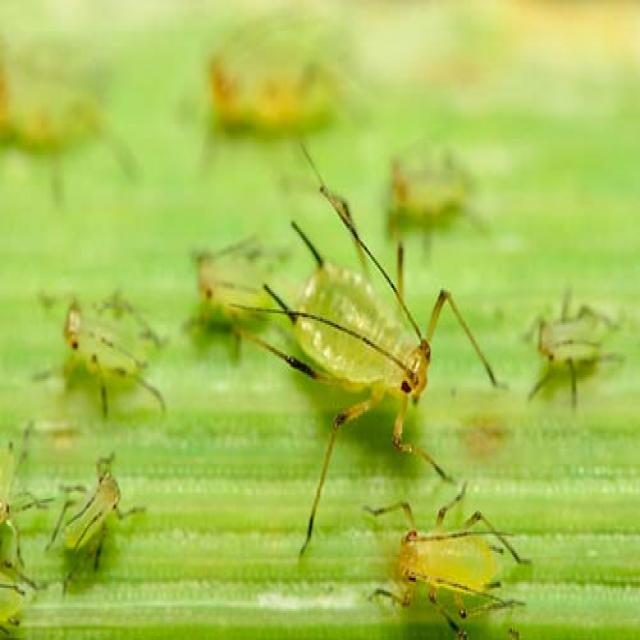Aphid-Grown-: (254, 185, 478, 464), (377, 491, 548, 626), (518, 275, 628, 423), (49, 444, 140, 567)
